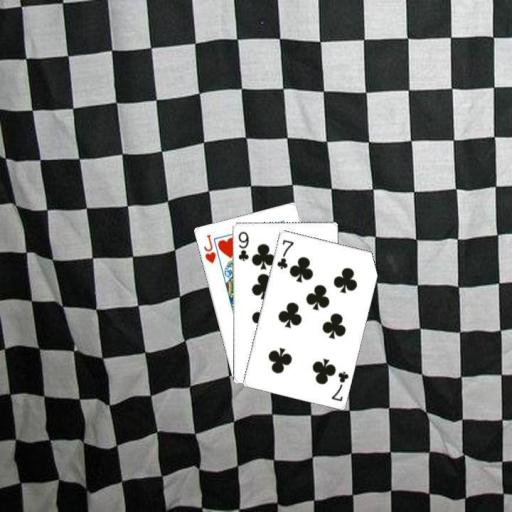card-corner: (328, 368, 350, 402), (274, 236, 295, 270), (200, 231, 217, 265), (234, 228, 250, 262)
